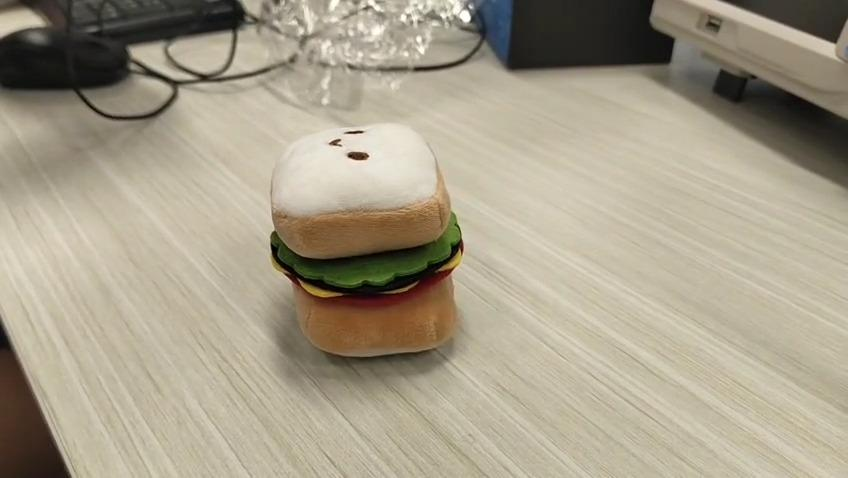objects: (269, 123, 466, 357)
